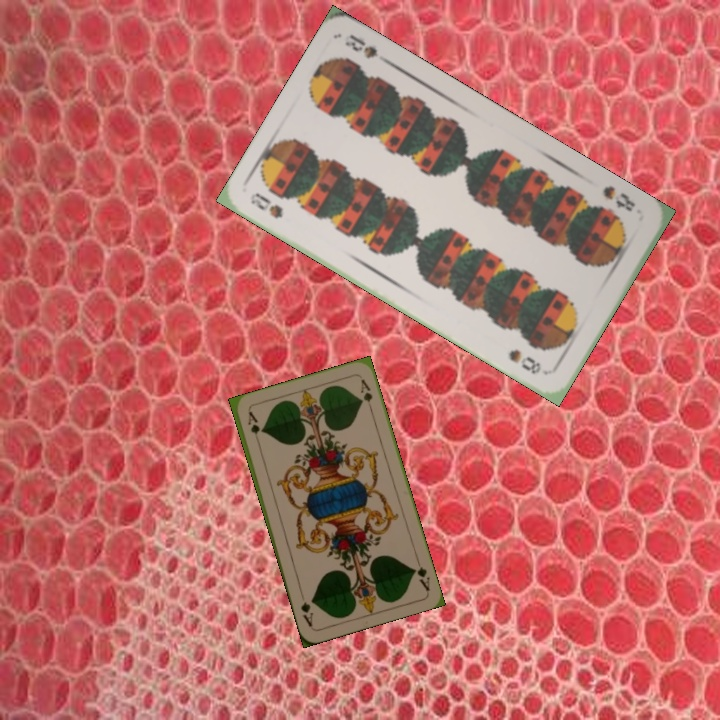GA: (409, 554, 432, 593), (243, 407, 263, 447)
S8: (598, 181, 639, 215), (246, 188, 286, 221)
